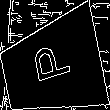P_W: (29, 43, 76, 91)
